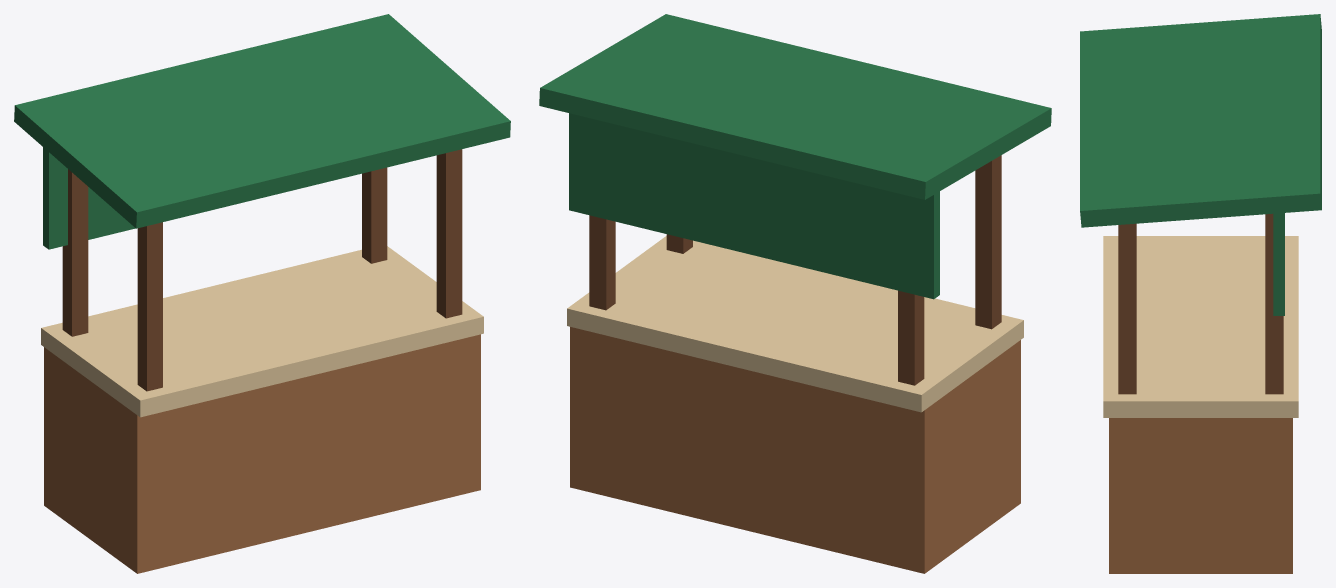
File: stall-green.glb
The picture shows the model from 3 angles, left to right: view 1: azimuth 30°, elevation 25°; view 2: azimuth 150°, elevation 25°; view 3: azimuth 270°, elevation 25°; orthographic projection. The views are drawn at different scales.
Size of the model in its own units: 1.85 by 1.86 by 1.05.
